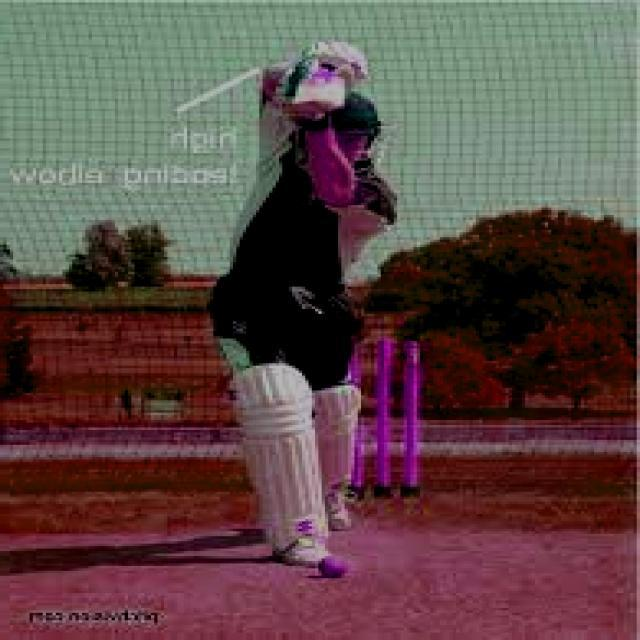bat: (291, 59, 353, 118)
toe: (294, 98, 341, 112)
